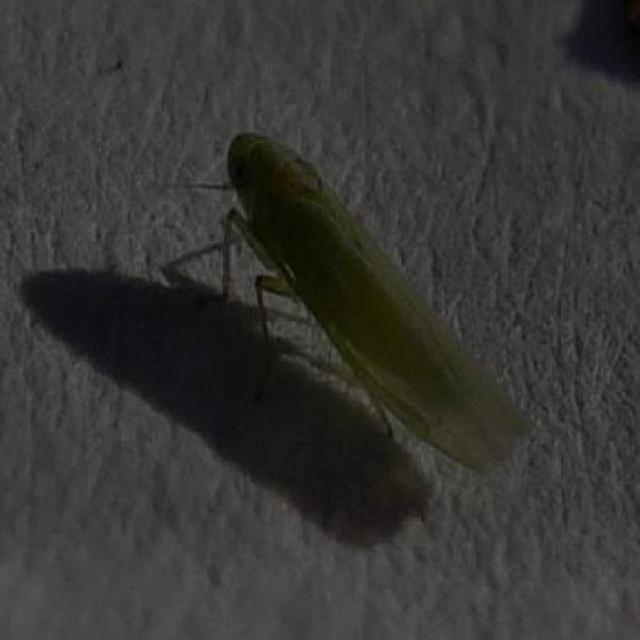green-leafhopper: (210, 112, 536, 483)
